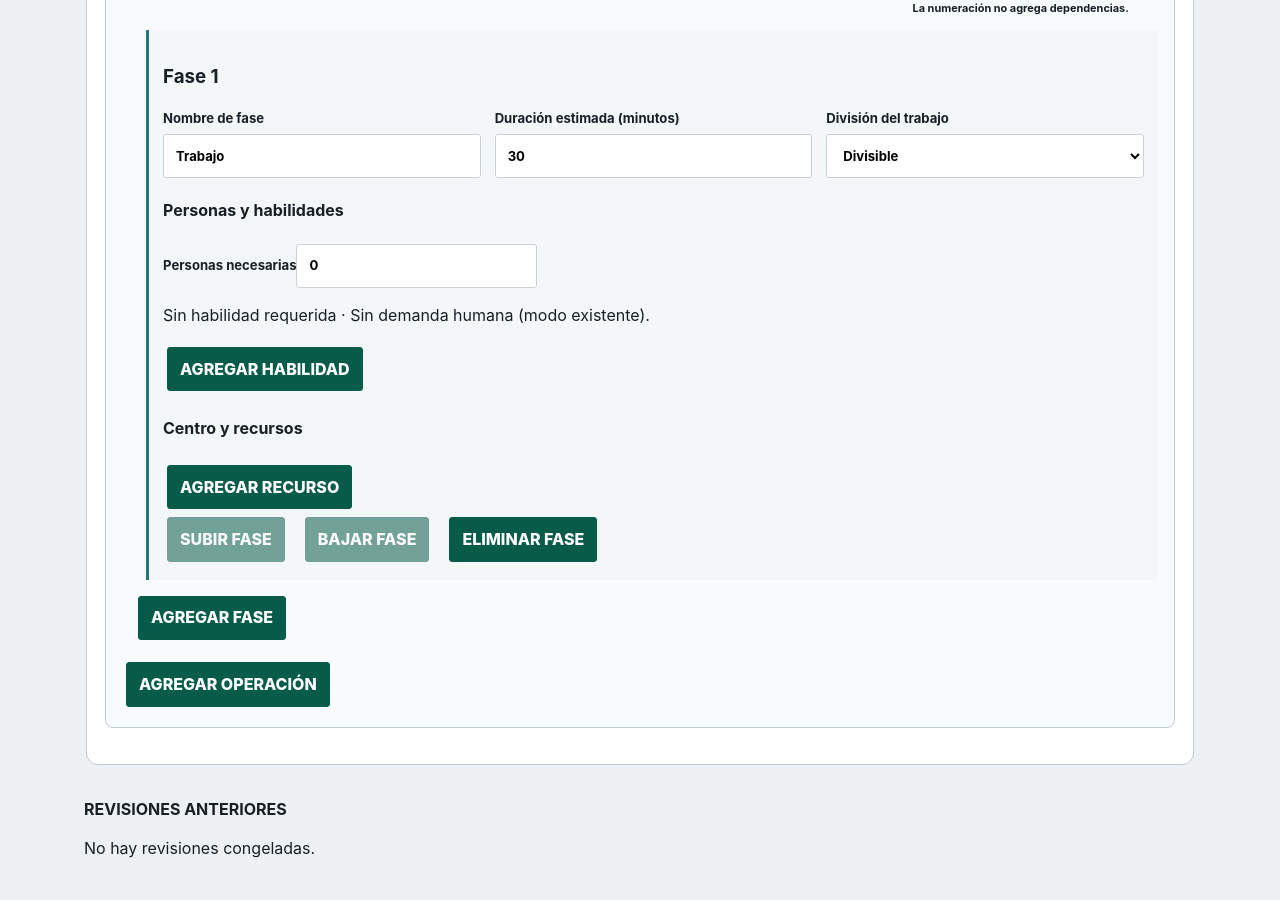
it: centro requerido activo
(page scrolled)
Click the button "AGREGAR RECURSO".
click(260, 487)  # box top-left (167, 465), bottom-right (352, 509)
(page scrolled)
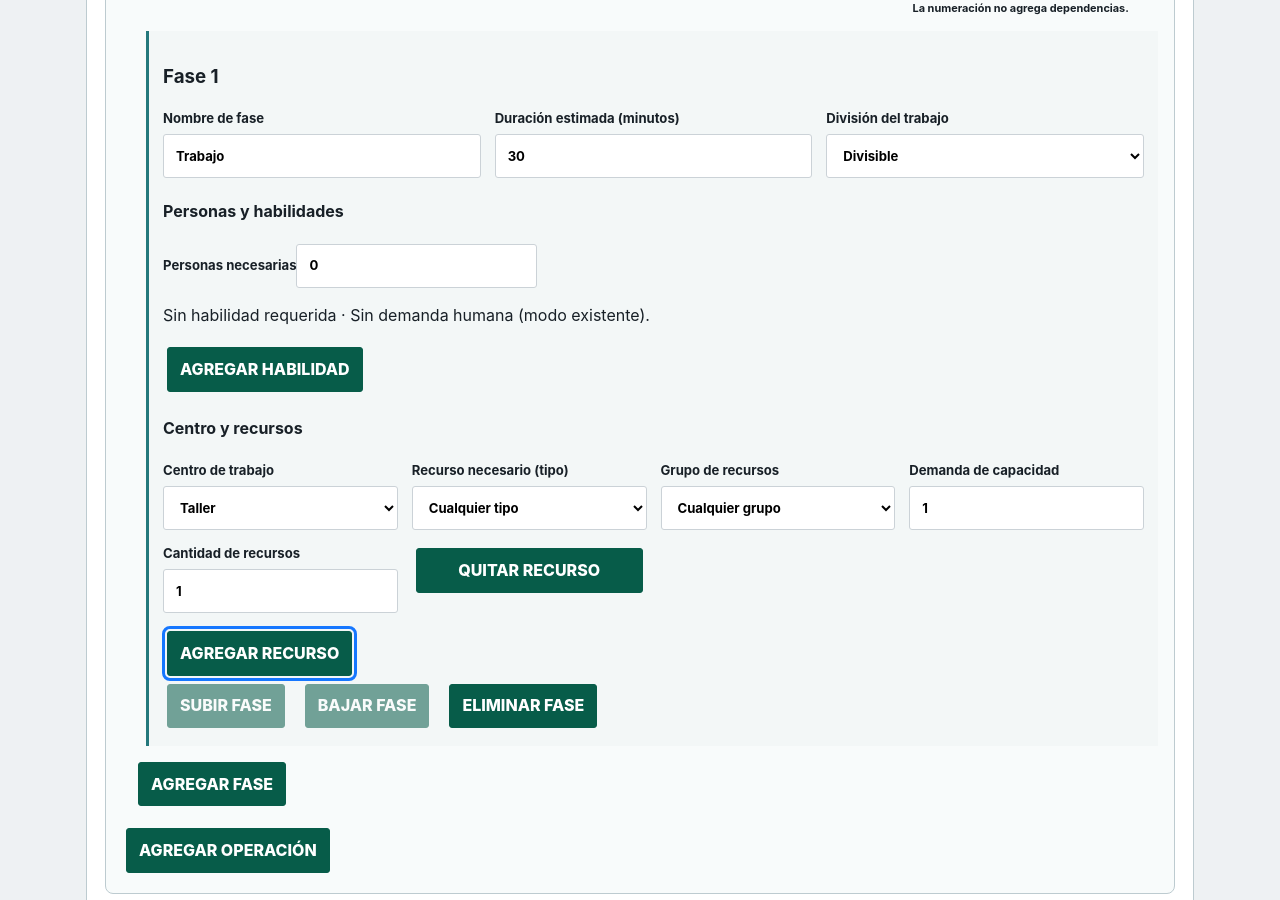
Check: the dropdown labelled "Centro de trabajo" shows "Taller", box top-left (163, 486), bottom-right (398, 530)
